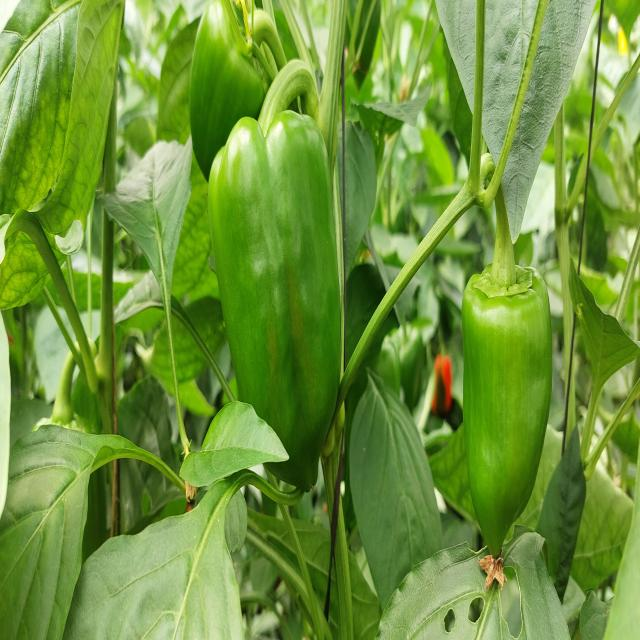Green--Not-ready-to-harvest: (208, 137, 358, 502), (458, 260, 552, 560), (190, 6, 263, 129)
